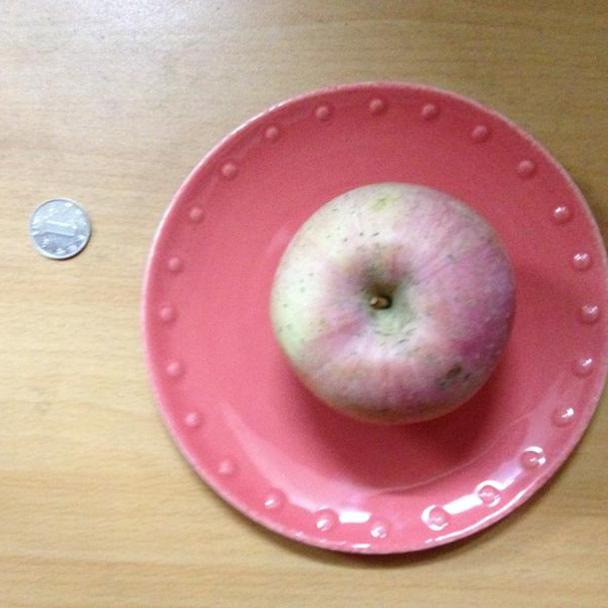apple: (266, 181, 520, 432)
